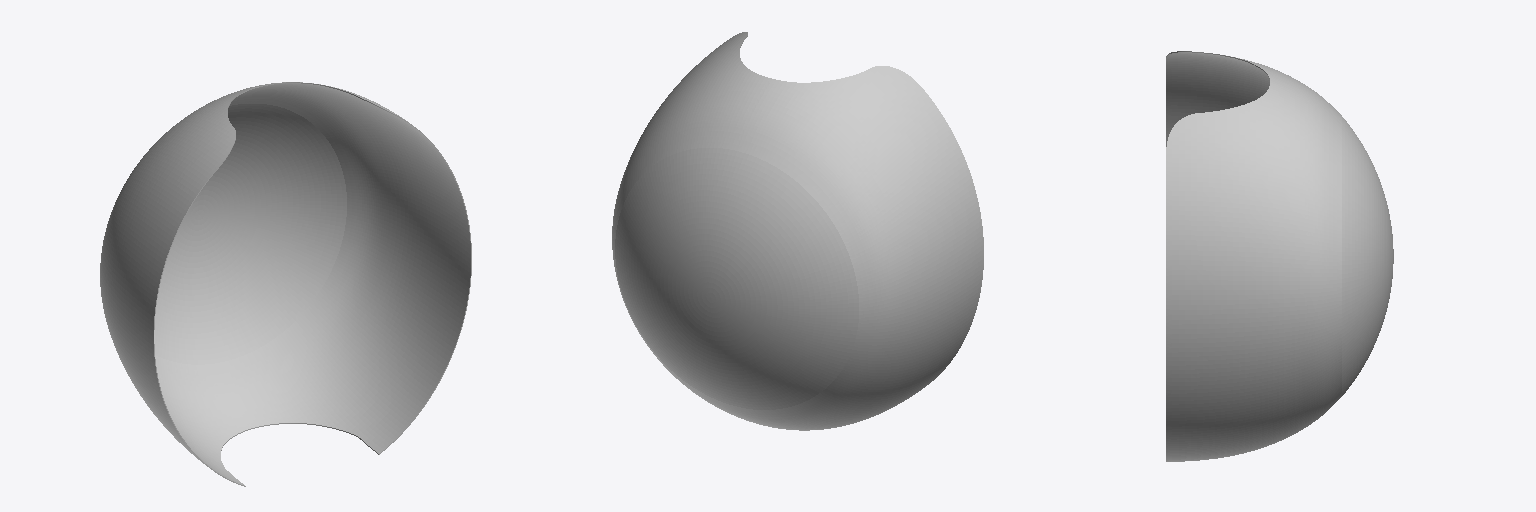
Rendered from CDPScale.obj.
3 views of the same model, side by side, from view 1: azimuth 30°, elevation 25°; view 2: azimuth 150°, elevation 25°; view 3: azimuth 270°, elevation 25° (orthographic).
Parts seen in each view (by area): view 1: CDP; view 2: CDP; view 3: CDP.
Boxes of the visible parts, x1=… form: CDP: x1=100, y1=82, x2=471, y2=486; CDP: x1=612, y1=32, x2=983, y2=430; CDP: x1=1166, y1=51, x2=1393, y2=461.
Bounding box in the file's own units: 1.78 × 1.85 × 1.1.